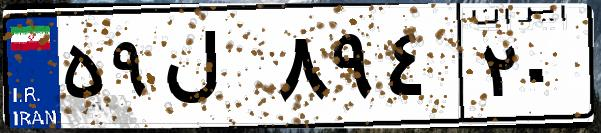0: (525, 38, 570, 115)
2: (475, 38, 525, 113)
4: (385, 28, 445, 110)
5: (57, 26, 110, 100)
8: (270, 28, 330, 110)
9: (330, 28, 385, 110), (110, 28, 158, 98)
ل: (158, 20, 270, 120)
